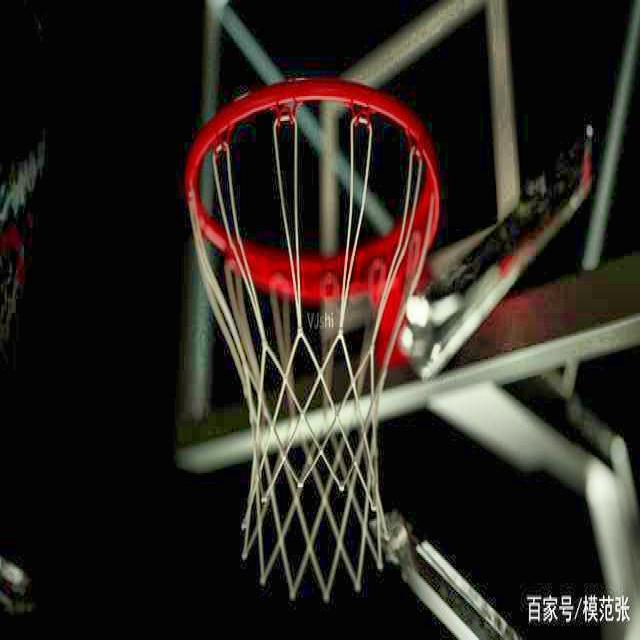rim: (186, 79, 441, 591)
